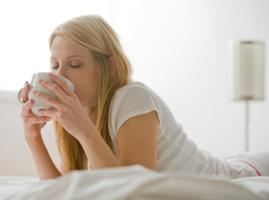person without safety: (39, 8, 170, 170)
